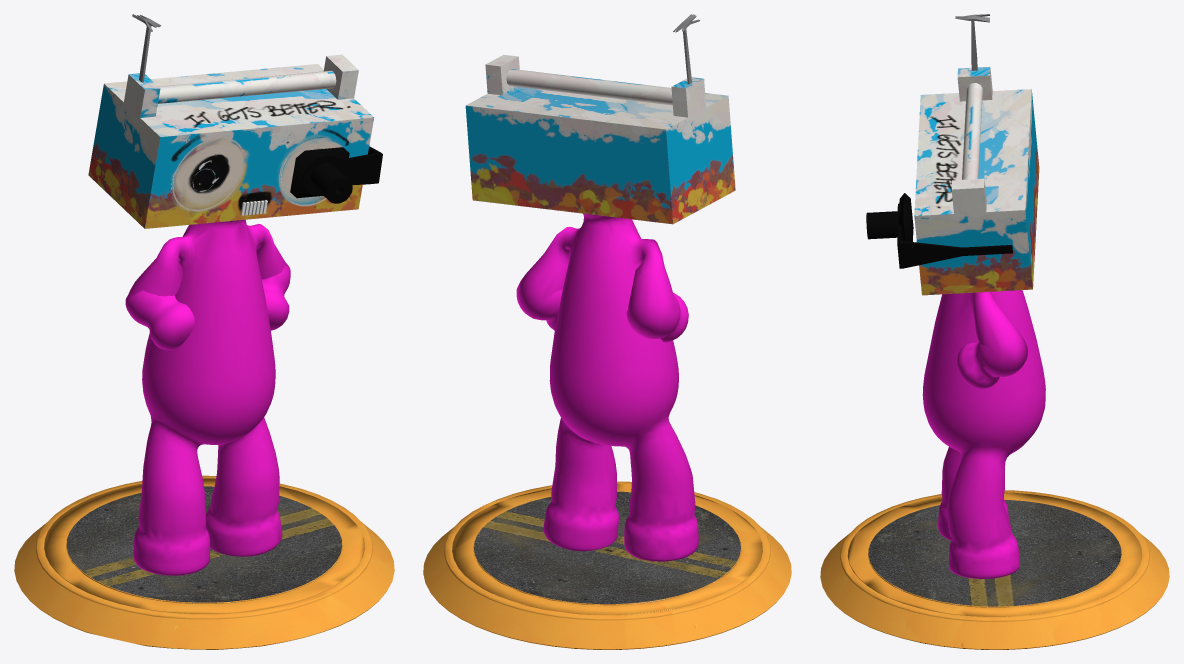
3 views of the same model, side by side, from view 1: azimuth 30°, elevation 25°; view 2: azimuth 150°, elevation 25°; view 3: azimuth 270°, elevation 25° (orthographic). The views are drawn at different scales.
Visible parts, largest first — view 1: BBody; view 2: BBody; view 3: BBody.
Part boxes in pixels (x1,y1,x2,y2): BBody: (14,14,394,649); BBody: (423,14,791,649); BBody: (820,14,1169,649).
Size of the model in its own units: 1.45 by 2.42 by 1.45.
Materials: 7 (3 with a texture image).
